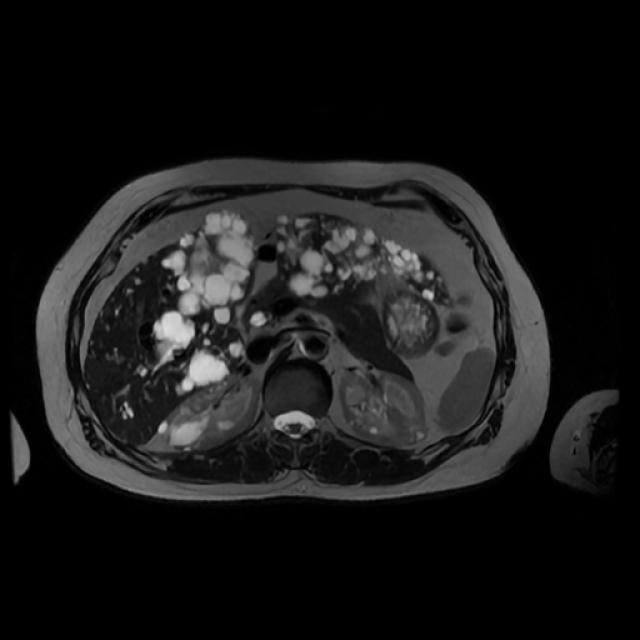sag: (160, 376, 262, 449)
sol: (340, 371, 431, 447)
